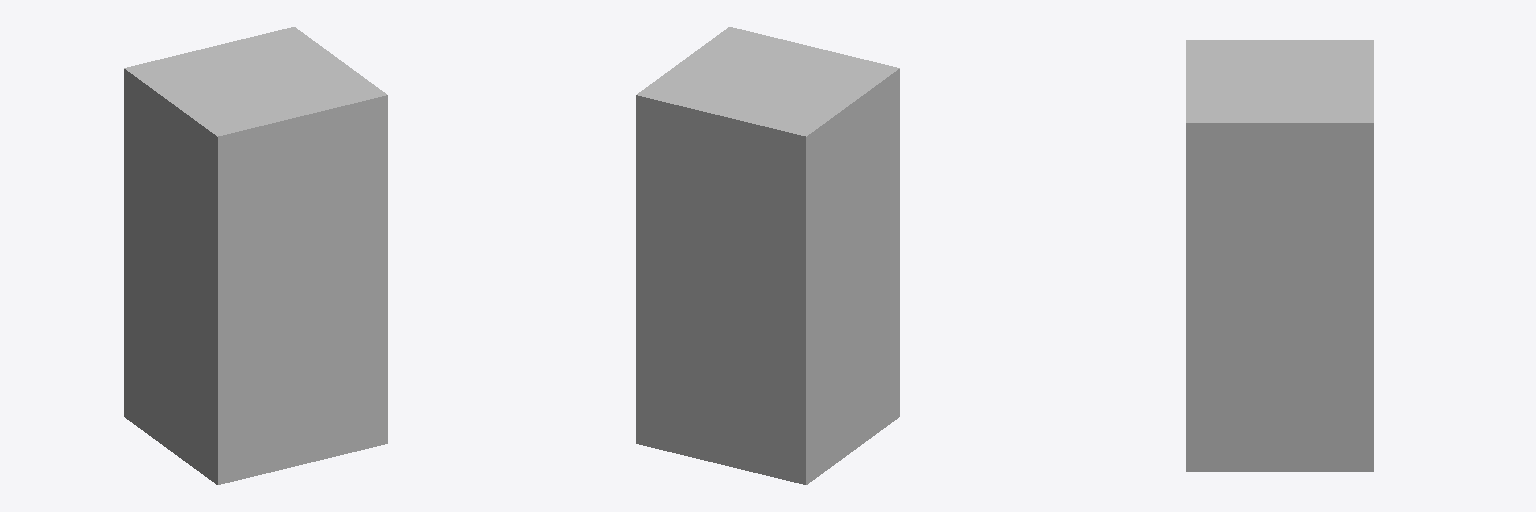
The model's file is large_window.obj.
3 views of the same model, side by side, from view 1: azimuth 30°, elevation 25°; view 2: azimuth 150°, elevation 25°; view 3: azimuth 270°, elevation 25° (orthographic).
Visible parts, largest first — view 1: Cube.001; view 2: Cube.001; view 3: Cube.001.
Boxes of the visible parts, <box> form: Cube.001: <box>124,27,387,484</box>; Cube.001: <box>636,27,899,484</box>; Cube.001: <box>1186,40,1373,471</box>.
Bounding box in the file's own units: 2.1 × 4.11 × 2.